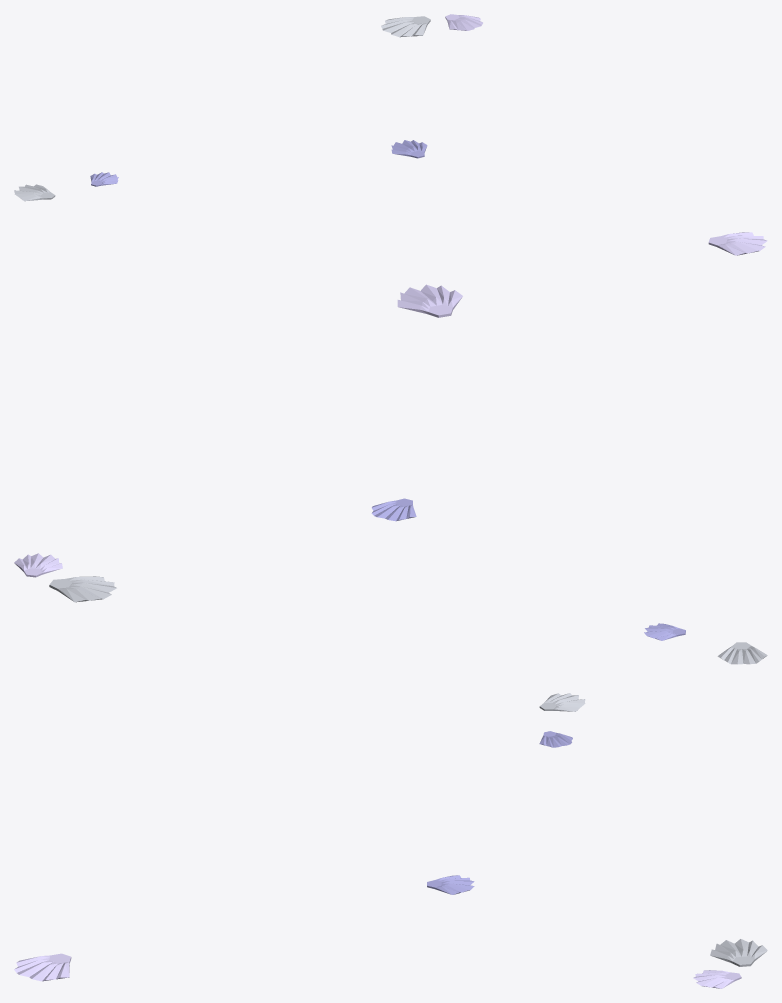
File: Clams.fbx
3 renders of one model, top to bottom at view 1: azimuth 30°, elevation 25°; view 2: azimuth 150°, elevation 25°; view 3: azimuth 270°, elevation 25°, orthographic. The views are drawn at different scales.
Parts seen in each view (by area): view 1: Clams; view 2: Clams; view 3: Clams.
Part boxes in pixels (box(x1,y1,x2,y2)): Clams: box(14, 14, 767, 255); Clams: box(14, 284, 767, 664); Clams: box(14, 693, 767, 988).
Size of the model in its own units: 3.95 by 0.0278 by 4.27.
